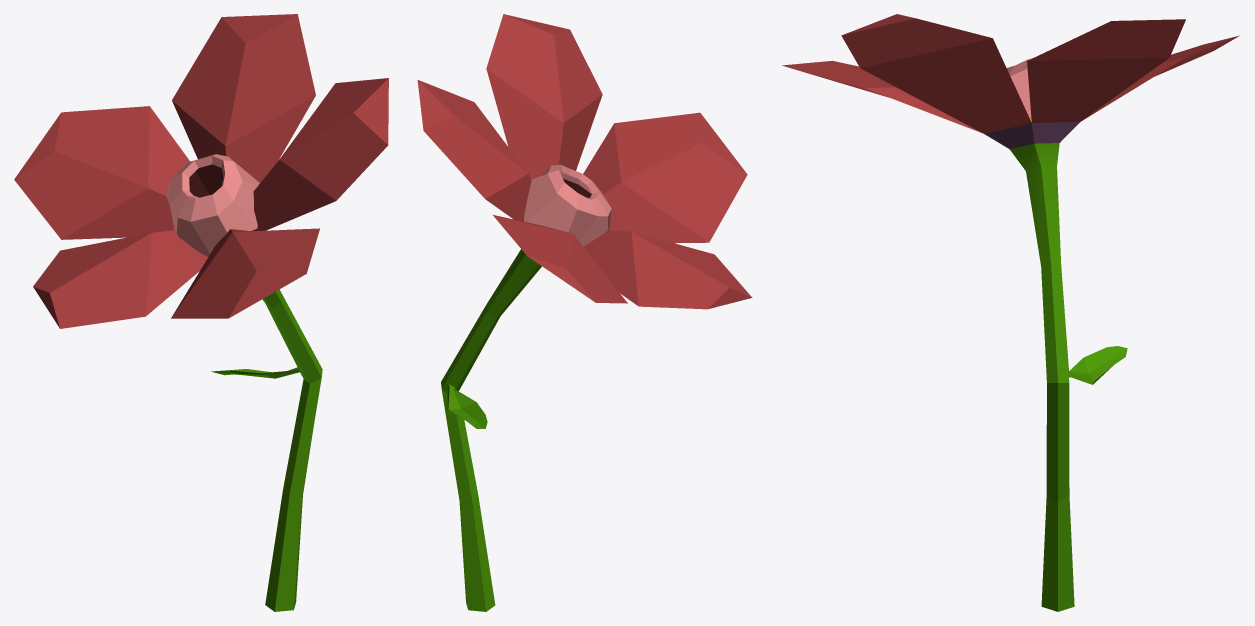
The model's file is fbxRedFlowerSmaller.fbx.
3 renders of one model, left to right at view 1: azimuth 30°, elevation 25°; view 2: azimuth 150°, elevation 25°; view 3: azimuth 270°, elevation 25°, orthographic. The views are drawn at different scales.
Visible parts, largest first — view 1: pCylinder3; view 2: pCylinder3; view 3: pCylinder3.
Part boxes in pixels (x1=…): pCylinder3: x1=14, y1=14, x2=388, y2=611; pCylinder3: x1=417, y1=14, x2=752, y2=611; pCylinder3: x1=782, y1=14, x2=1239, y2=611.
Size of the model in its own units: 1.42 by 2.6 by 1.78.
